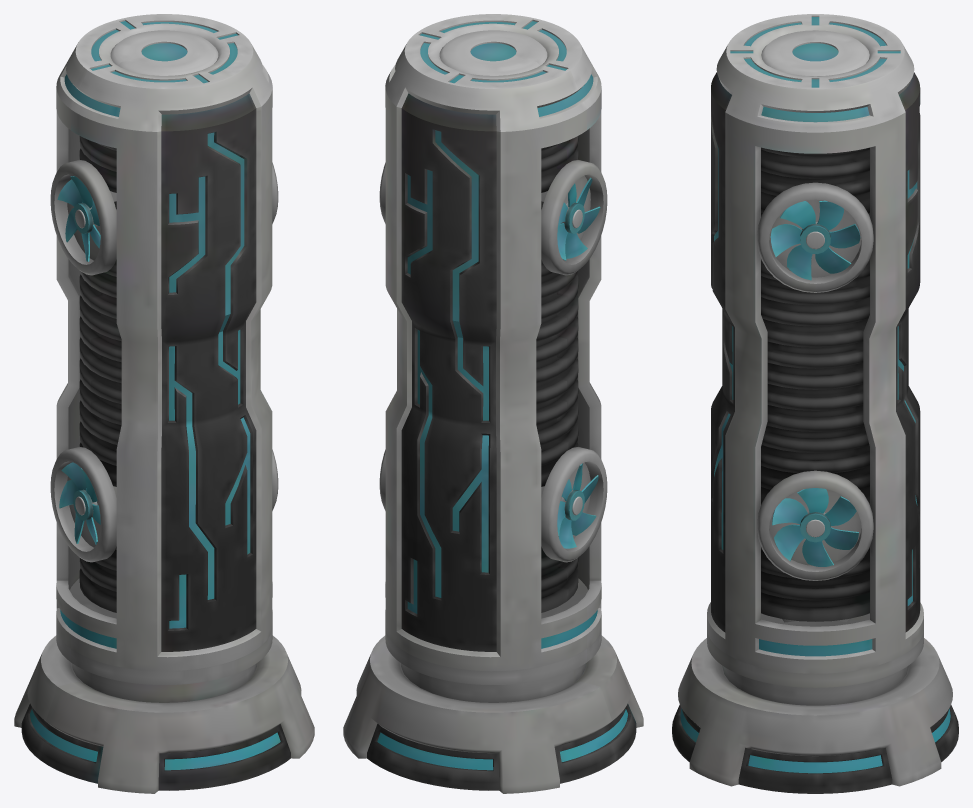
File: SK_AirConditionerAncient_45b1e1.glb
3 views of the same model, side by side, from view 1: azimuth 30°, elevation 25°; view 2: azimuth 150°, elevation 25°; view 3: azimuth 270°, elevation 25° (orthographic).
Bounding box in the file's own units: 0.74 × 1.94 × 0.74.
Materials: 1 (1 with a texture image).
